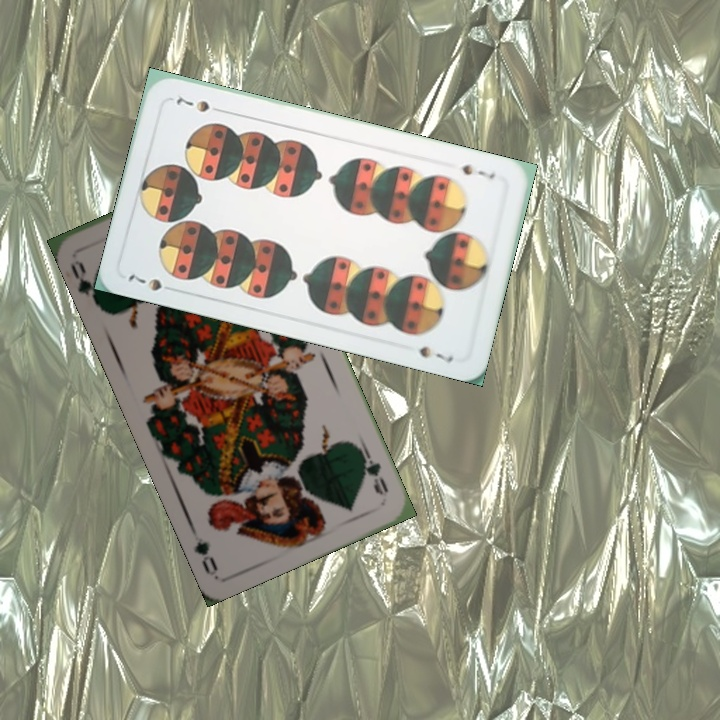GO: (66, 255, 103, 309), (357, 444, 392, 498)
S7: (123, 270, 180, 295), (453, 160, 498, 181)
